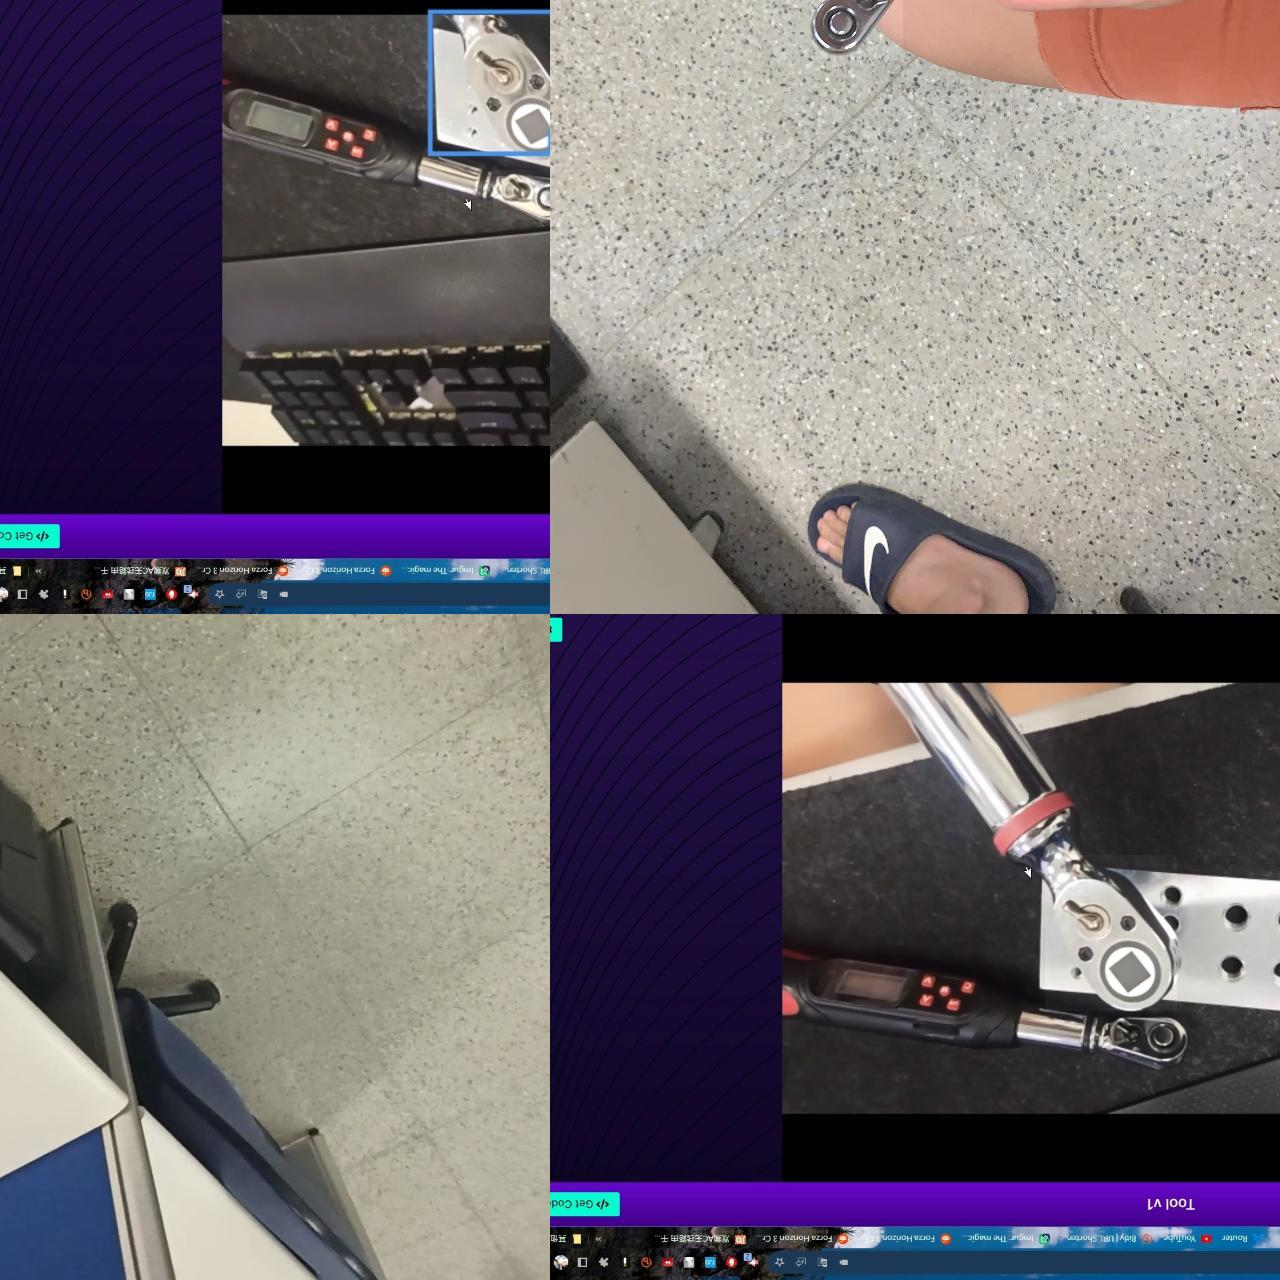Tool: (1046, 855, 1177, 1012), (811, 0, 903, 59), (1099, 1009, 1189, 1069), (493, 170, 550, 220)
